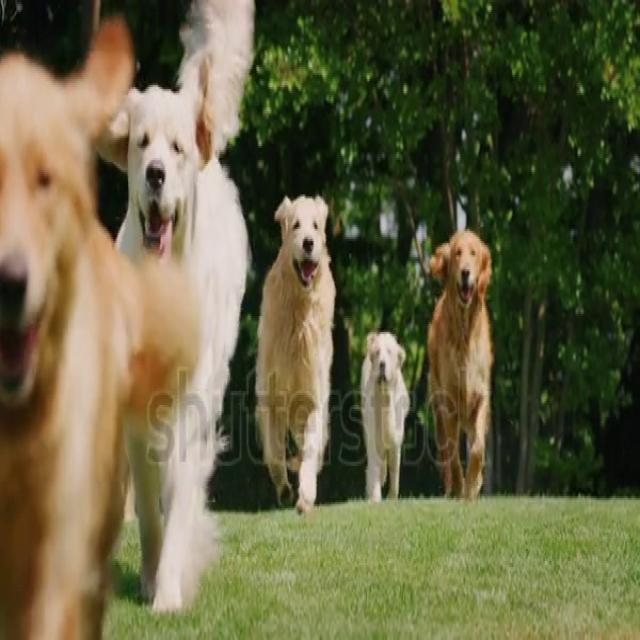normal_animals: (4, 69, 128, 640), (91, 60, 221, 590), (246, 121, 354, 520), (404, 229, 536, 532), (314, 265, 421, 518)
